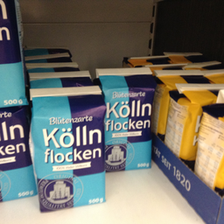cereal: (27, 86, 106, 214), (97, 67, 155, 171), (163, 84, 223, 164)
